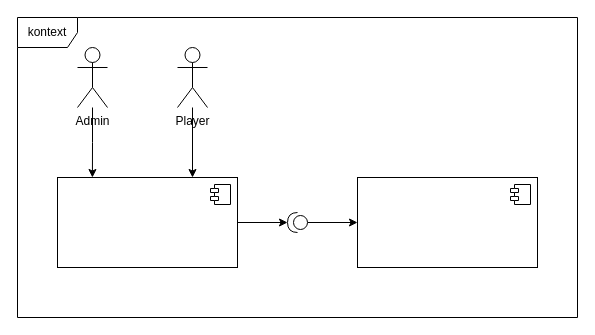
This 595x335 diagram has some shape labels left out. Here are the shapes that lost their labels. From the top down, the centre of each, then its label:
the point at 147,222: «system» PlayTime
the point at 447,222: «identity access management» Keycloak
